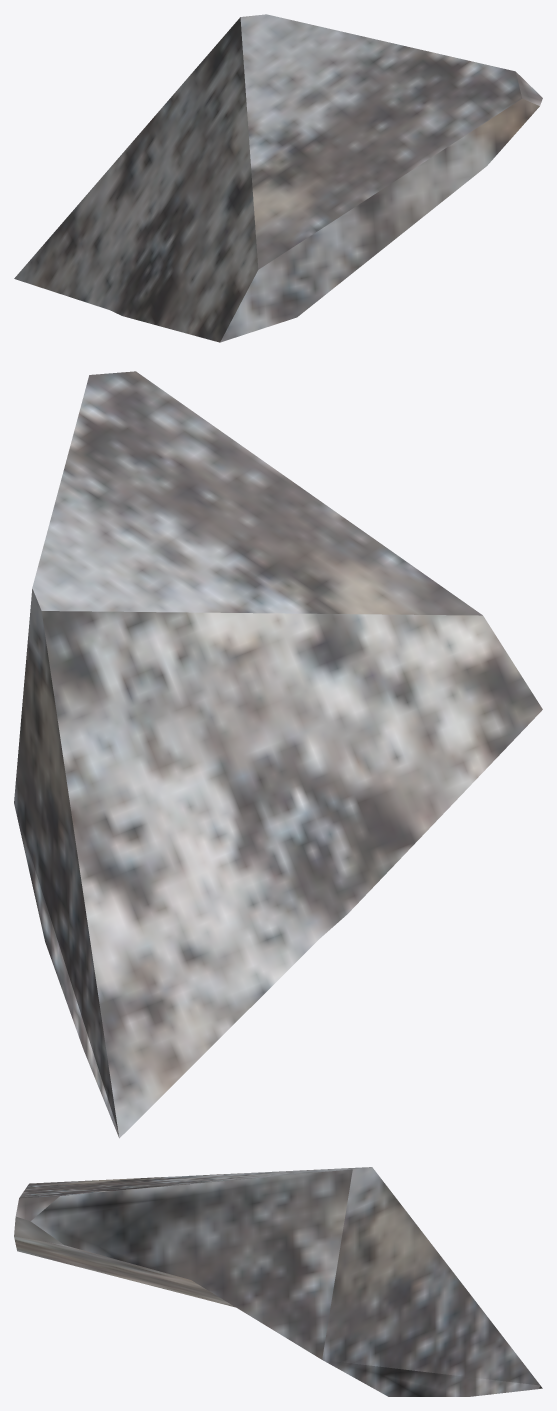
The model's file is Asteroid_Large_001_02_001_03_020.fbx.
The picture shows the model from 3 angles, top to bottom: view 1: azimuth 30°, elevation 25°; view 2: azimuth 150°, elevation 25°; view 3: azimuth 270°, elevation 25°; orthographic projection. The views are drawn at different scales.
Visible parts, largest first — view 1: Asteroid_Large_001_02_001_03_020; view 2: Asteroid_Large_001_02_001_03_020; view 3: Asteroid_Large_001_02_001_03_020.
Boxes of the visible parts, box(x1,y1,x2,y2) form: Asteroid_Large_001_02_001_03_020: box(14, 14, 542, 342); Asteroid_Large_001_02_001_03_020: box(14, 371, 542, 1138); Asteroid_Large_001_02_001_03_020: box(14, 1167, 542, 1396).
Bounding box in the file's own units: 2.65 × 2.48 × 3.7.
